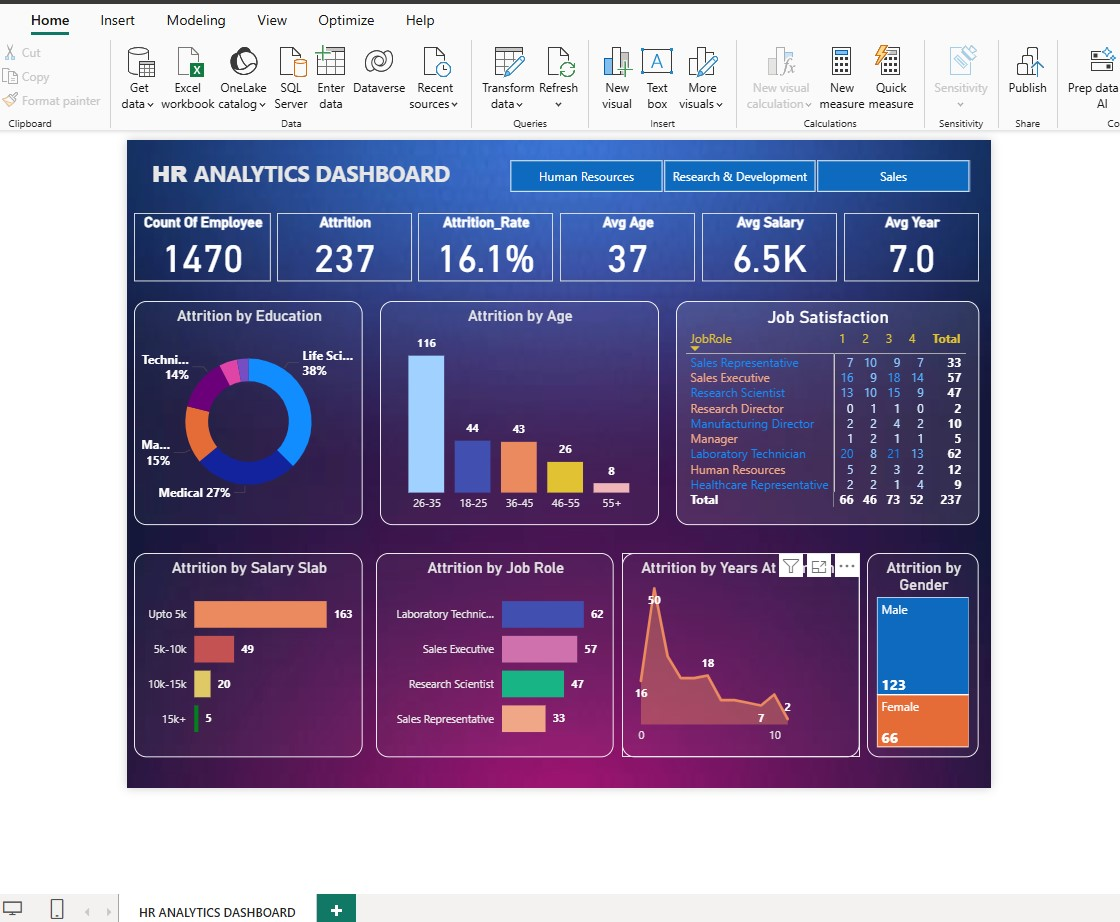

Layout of this report page (visuals, bound fields, positions):
{"tool":"powerbi","page":{"name":"HR ANALYTICS DASHBOARD","canvas":[960,720],"ordinal":0},"visuals":[{"type":"card","title":"Count Of Employee","fields":{"Values":["CountNonNull(HR_Analytics.EmpID)"]},"box":[7.8,81.2,152.2,75.6],"z":0},{"type":"card","title":"Attrition","fields":{"Values":["Sum(HR_Analytics.Attrition_Count)"]},"box":[166.7,81.2,150,75.6],"z":1000},{"type":"card","title":"Attrition_Rate","fields":{"Values":["HR_Analytics.Attrition_Rate"]},"box":[323.3,81.2,150,75.6],"z":2000},{"type":"card","title":"Avg Age","fields":{"Values":["Avg(HR_Analytics.Age)"]},"box":[480.8,80.9,150,75.5],"z":3000},{"type":"card","title":"Avg Salary","fields":{"Values":["Avg(HR_Analytics.MonthlyIncome)"]},"box":[638.9,81.2,150,75.6],"z":4000},{"type":"card","title":"Avg Year","fields":{"Values":["Avg(HR_Analytics.YearsAtCompany)"]},"box":[796.7,81.2,150,75.6],"z":5000},{"type":"donutChart","title":" Attrition by Education","fields":{"Category":["HR_Analytics.EducationField"],"Y":["Sum(HR_Analytics.Attrition_Count)"]},"box":[7.8,179,254.4,248.9],"z":6000},{"type":"columnChart","title":" Attrition by Age","fields":{"Category":["HR_Analytics.AgeGroup"],"Y":["Sum(HR_Analytics.Attrition_Count)"]},"box":[281.1,178.9,310,248.9],"z":7000},{"type":"pivotTable","title":"Job Satisfaction","fields":{"Rows":["HR_Analytics.JobRole"],"Columns":["HR_Analytics.JobSatisfaction"],"Values":["Sum(HR_Analytics.Attrition_Count)"]},"box":[610,179,336.7,248.9],"z":8000},{"type":"barChart","title":" Attrition by Salary Slab","fields":{"Category":["HR_Analytics.SalarySlab"],"Y":["Sum(HR_Analytics.Attrition_Count)"]},"box":[7.8,458.9,254.4,226.7],"z":9000},{"type":"barChart","title":" Attrition by Job Role","fields":{"Category":["HR_Analytics.JobRole"],"Y":["Sum(HR_Analytics.Attrition_Count)"]},"box":[276.7,458.9,264.4,226.7],"z":10000},{"type":"areaChart","title":" Attrition by Years At Company","fields":{"Category":["HR_Analytics.YearsAtCompany"],"Y":["Sum(HR_Analytics.Attrition_Count)"]},"box":[550,458.9,264.4,226.7],"z":11000},{"type":"treemap","title":" Attrition by Gender","fields":{"Group":["HR_Analytics.Gender"],"Values":["Sum(HR_Analytics.Attrition_Count)"]},"box":[822.2,458.9,124.4,226.7],"z":12000},{"type":"slicer","fields":{"Values":["HR_Analytics.Department"]},"box":[400,15.6,560,48.9],"z":13000},{"type":"textbox","box":[7.8,15.6,371.1,47.8],"z":14000}]}

Visuals, with their boxes on the page's 960x720 design canvas (x1, y1, x2, y2). These are canvas units, not pixel positions in the 1120x922 screenshot, which may show the page scaled, cropped or inside an application window:
"Count Of Employee" card: (8,81,160,157)
"Attrition" card: (167,81,317,157)
"Attrition_Rate" card: (323,81,473,157)
"Avg Age" card: (481,81,631,156)
"Avg Salary" card: (639,81,789,157)
"Avg Year" card: (797,81,947,157)
" Attrition by Education" donutChart: (8,179,262,428)
" Attrition by Age" columnChart: (281,179,591,428)
"Job Satisfaction" pivotTable: (610,179,947,428)
" Attrition by Salary Slab" barChart: (8,459,262,686)
" Attrition by Job Role" barChart: (277,459,541,686)
" Attrition by Years At Company" areaChart: (550,459,814,686)
" Attrition by Gender" treemap: (822,459,947,686)
slicer - HR_Analytics.Department: (400,16,960,64)
textbox: (8,16,379,63)
